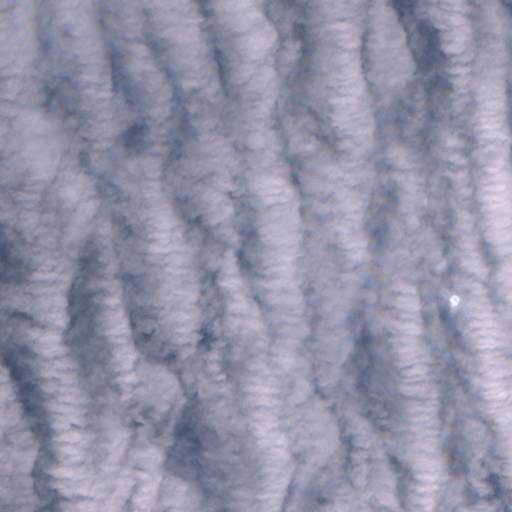Iceberg: (449, 295, 459, 306)
